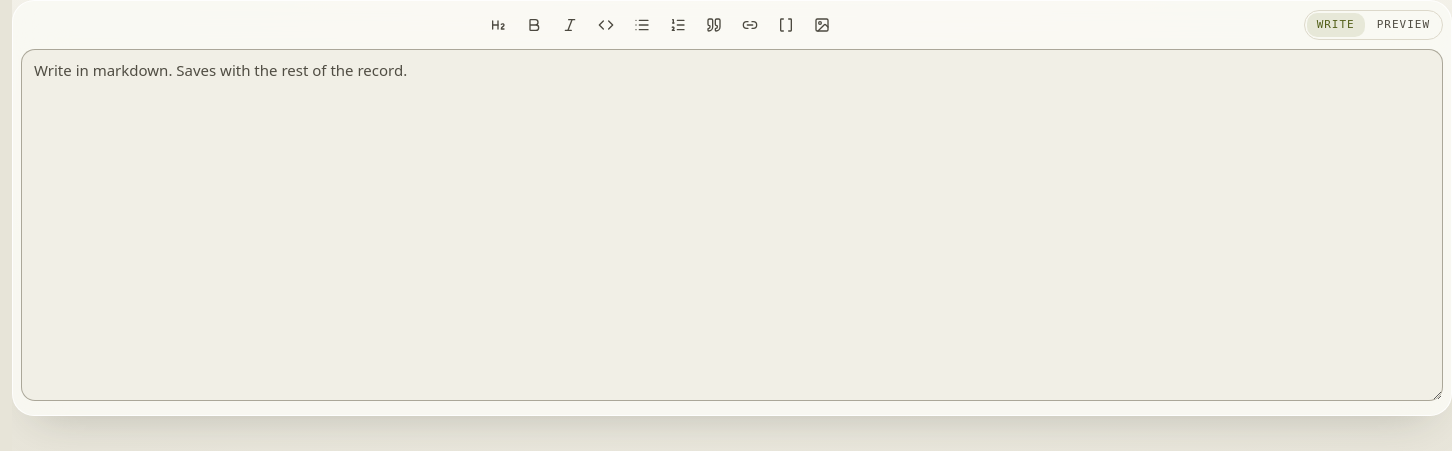
Test: MarkdownEditor › wraps the selection from the toolbar without taking focus from the field
Type "milk" into the text box named "Markdown body" at coordinates (732, 225), box [21,49,1443,401]
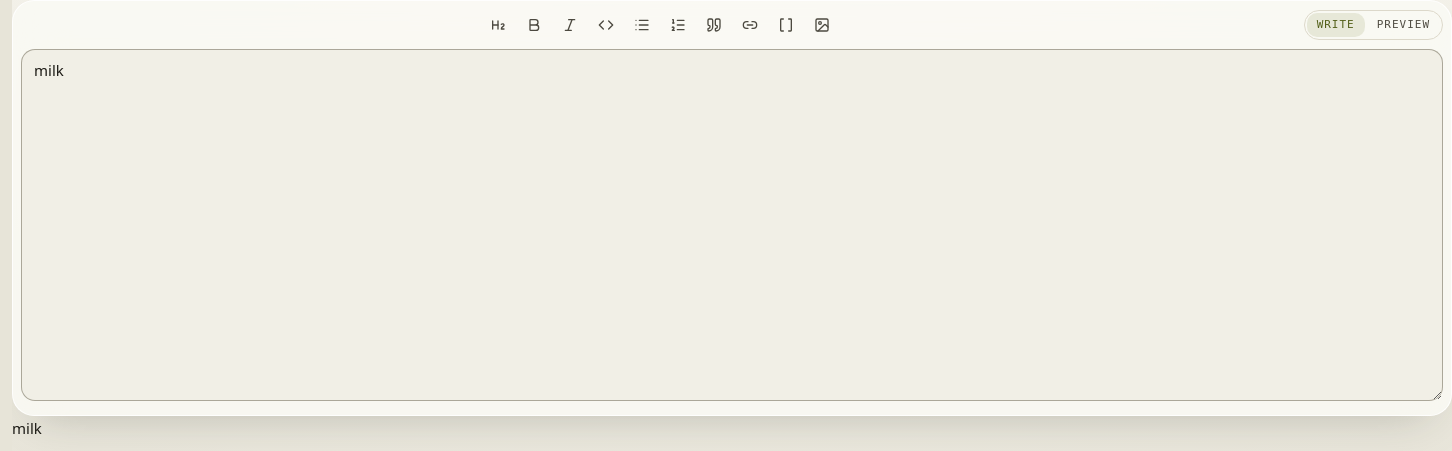
Press the mouse on the button named "Bold" at coordinates (534, 25), box [518,9,550,41]
Click the button named "Bold" at coordinates (534, 25), box [518,9,550,41]
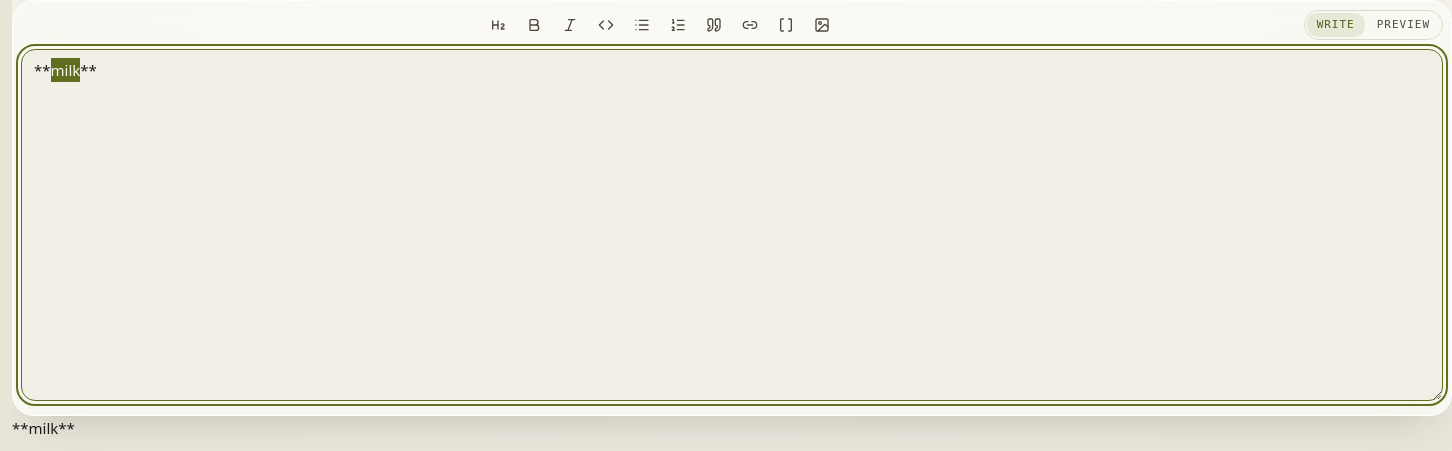
Now the text box named "Markdown body" holds "**milk**"
